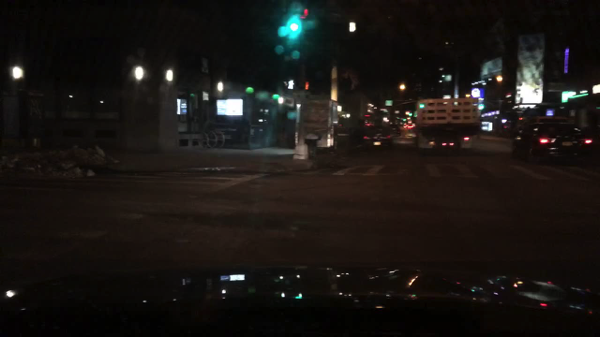car: (511, 125, 587, 166), (362, 122, 391, 151), (524, 117, 566, 125), (388, 124, 403, 136), (405, 127, 415, 138), (396, 123, 403, 131)
traffic light: (287, 8, 296, 37), (301, 4, 307, 34), (284, 78, 295, 91), (301, 81, 310, 91), (409, 110, 412, 119), (402, 114, 405, 122)
traffic sign: (384, 101, 393, 107)
truck: (413, 96, 482, 153)
